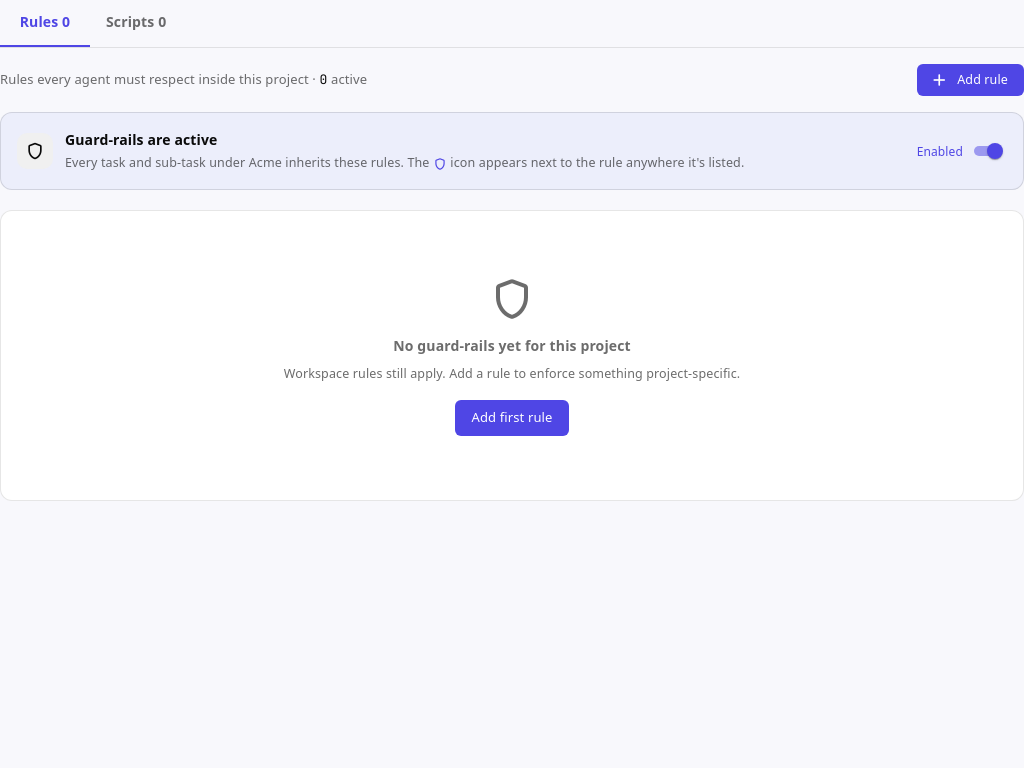
ProjectGuardrailsBody — Add rule dialog › opens and closes Add rule dialog
This screenshot has width=1024, height=768.
Step 1. Click the button "Add rule" → x=971, y=80, box [917,64,1023,96]
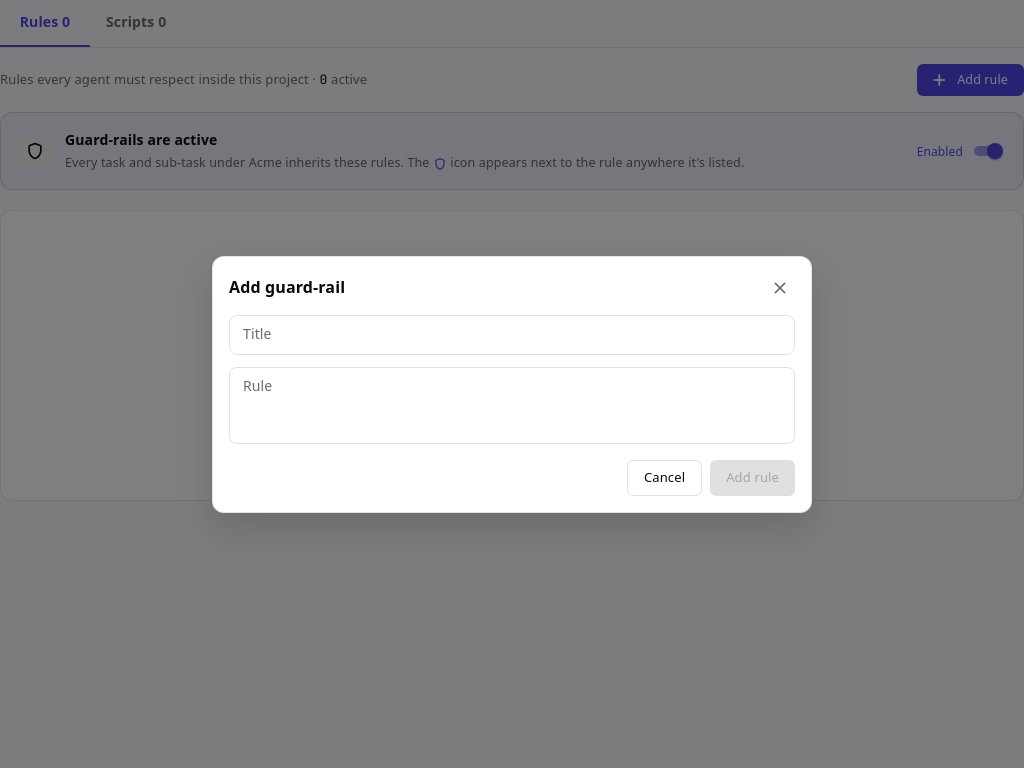
Expected: the text "Add guard-rail" is shown, [229,275,345,300]
Step 2. Click the button "Cancel" → x=665, y=478, box [627,460,702,496]
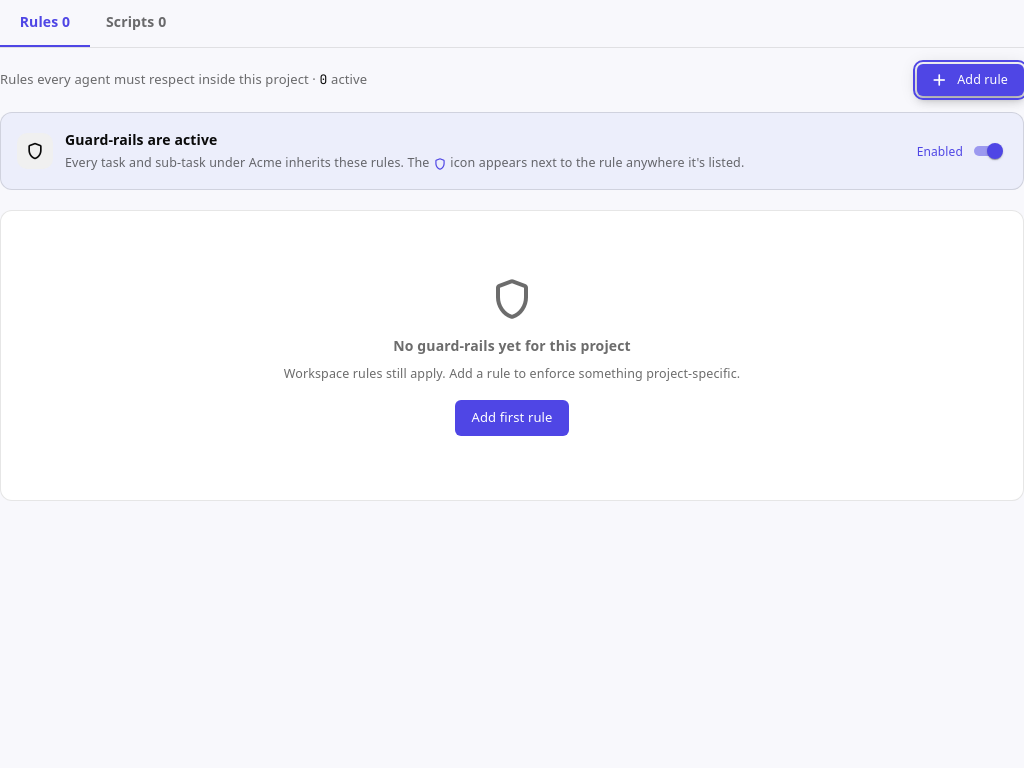
Expected: the text "Add guard-rail" is gone
